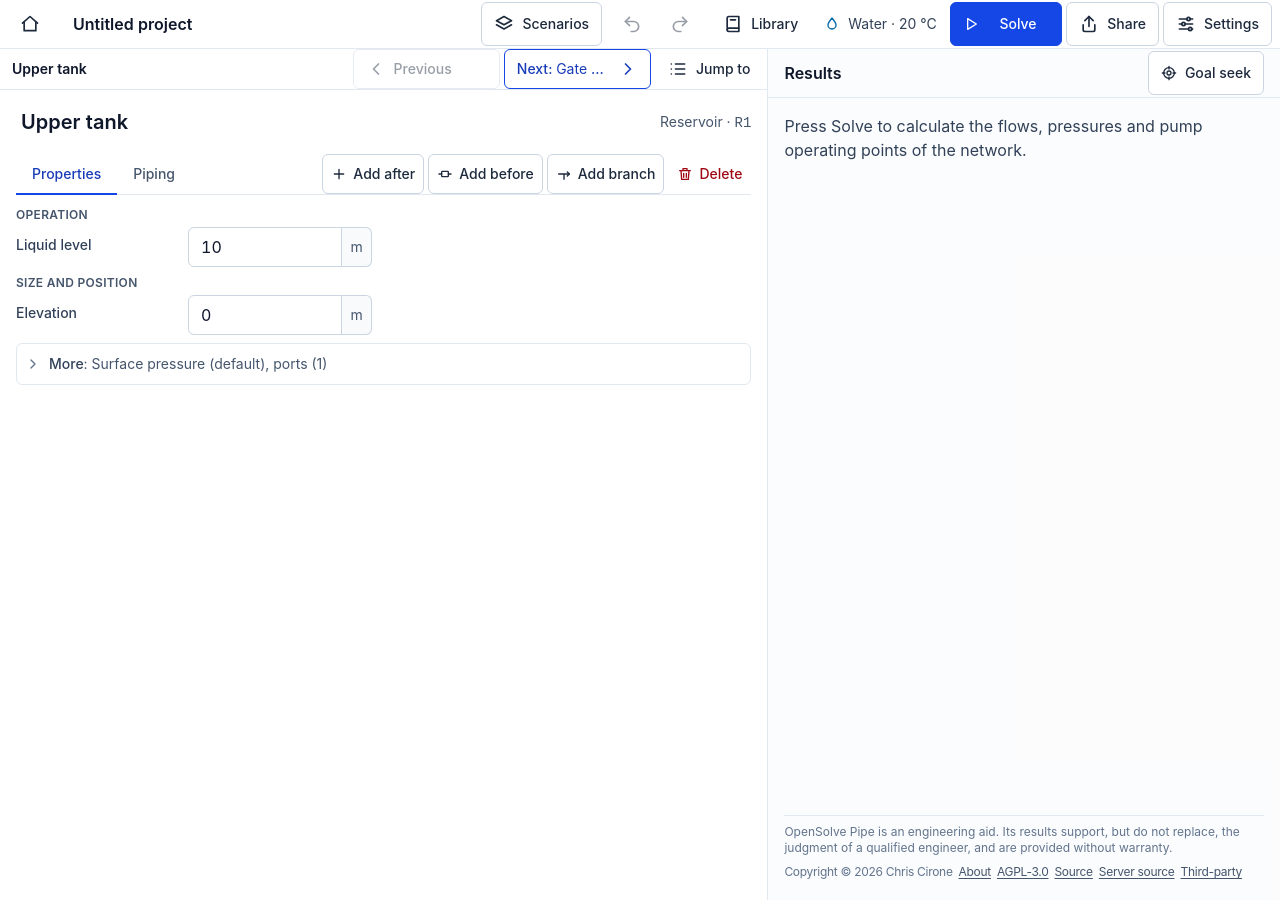
Test case: ProjectLibrary › an edit to an entry reaches every element that refers to it
The image size is (1280, 900).
Click the button with aria-label "Project library" at [761, 24], box [710,2,811,46]
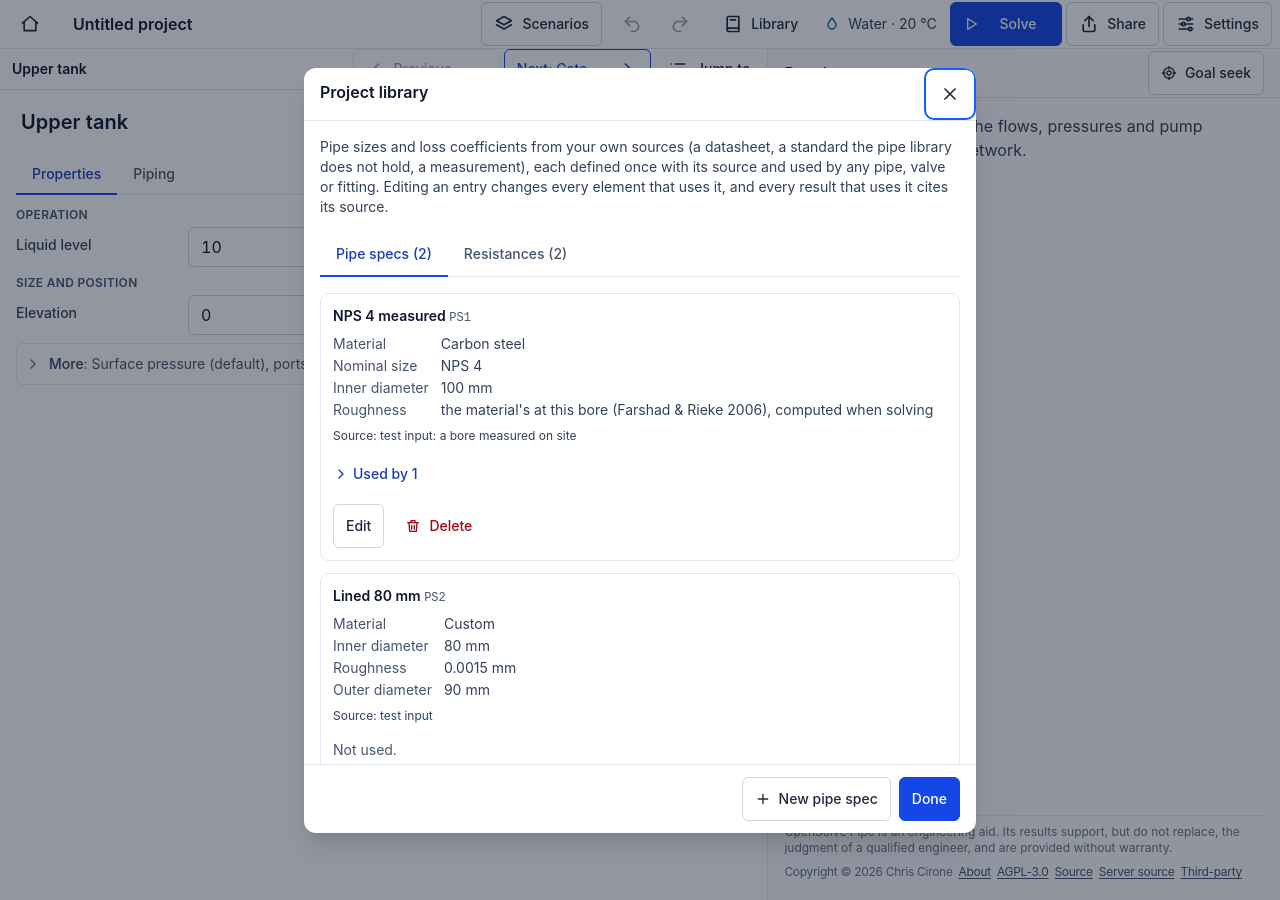
Click the tab "Resistances (2)" at [516, 254], box [448,232,583,276]
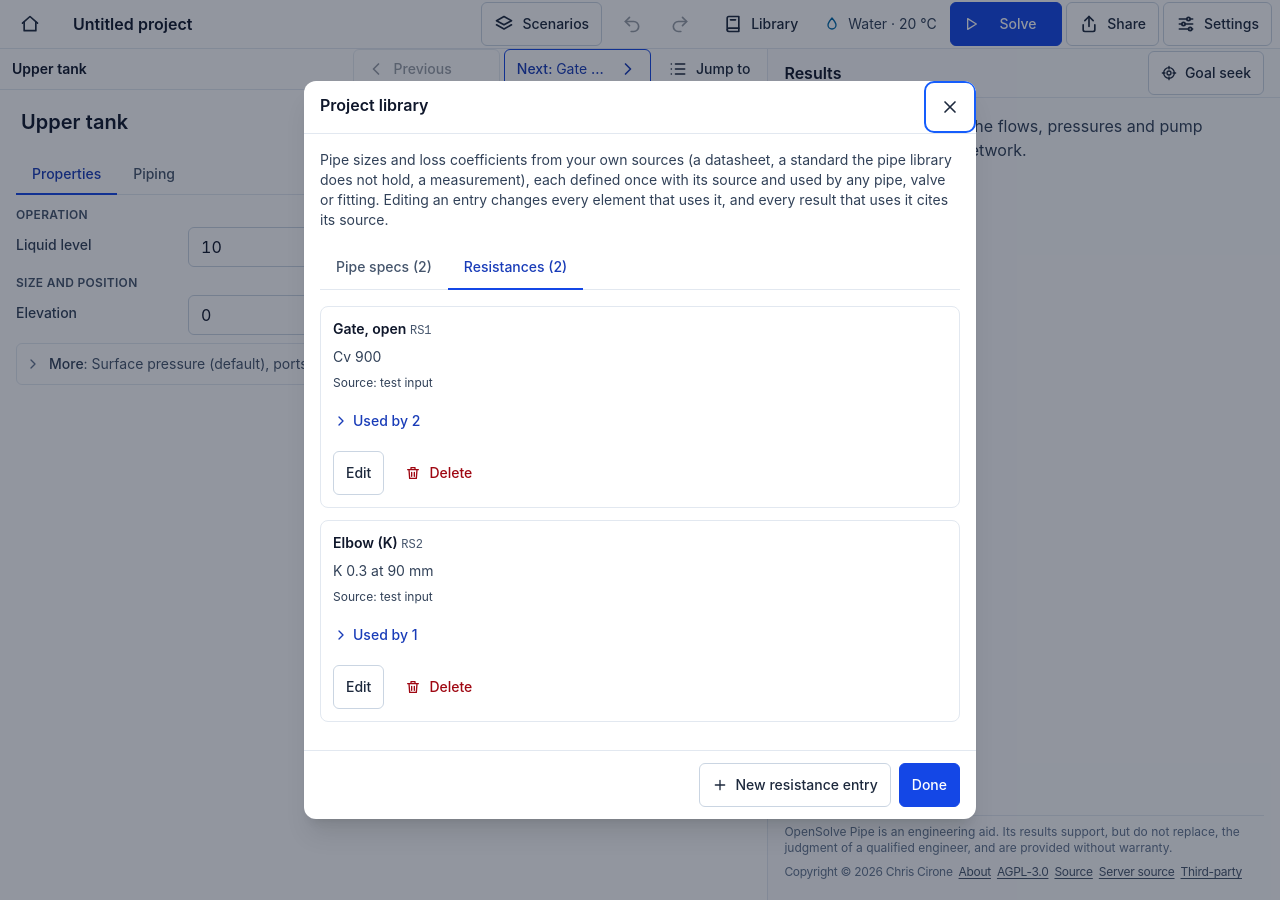
Check: the text "Cv 900" is shown, box [333,348,381,365]
Check: the heading "Used by 2" is shown, box [333,412,420,429]
Click the button with aria-label "Edit Gate, open" at [359, 473], box [333,451,384,495]
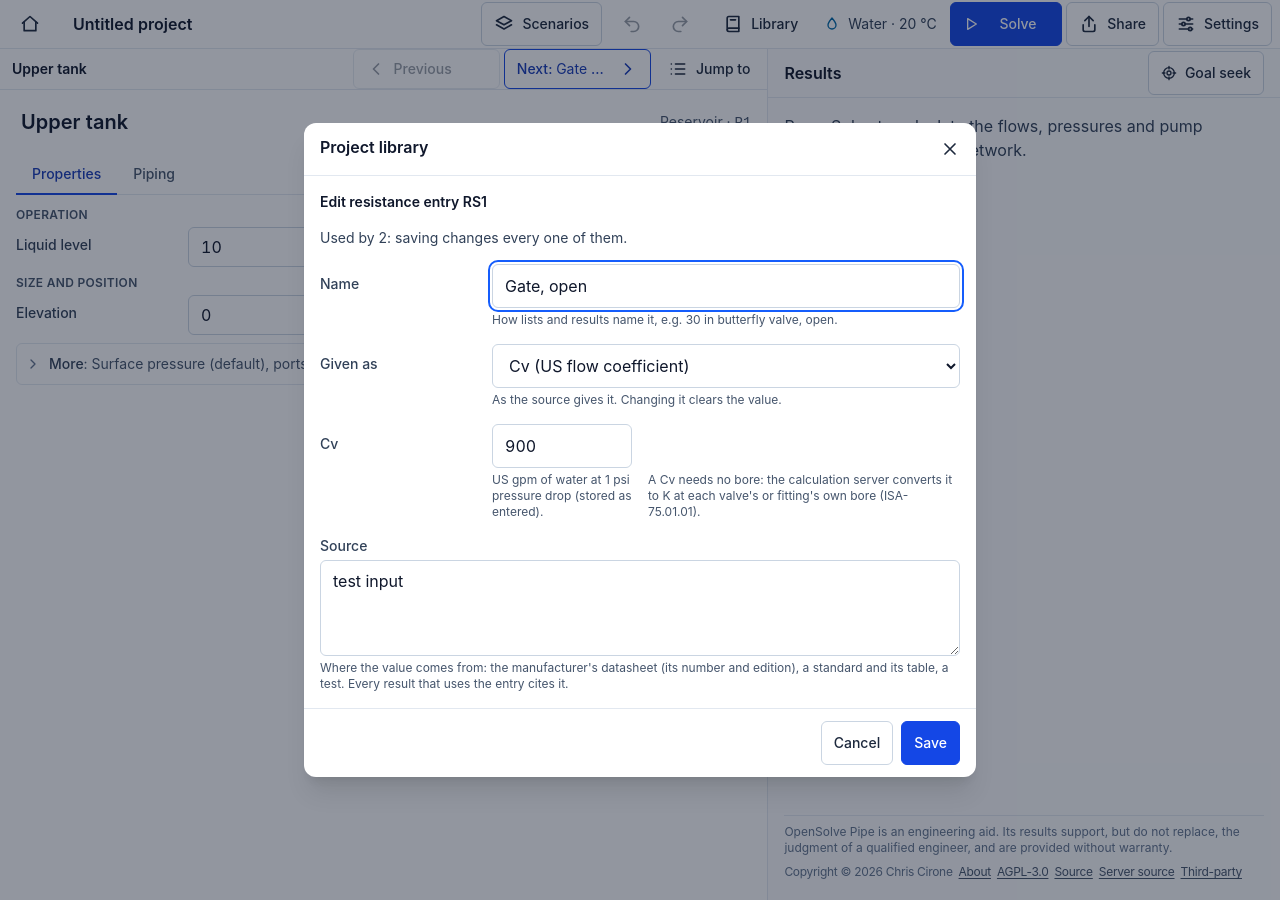
Check: the text "Used by 2: saving changes every one of them." is shown, box [320,229,627,246]
Replace the text in the field labelled "Cv" with "1200" at [562, 446], box [492,424,632,468]
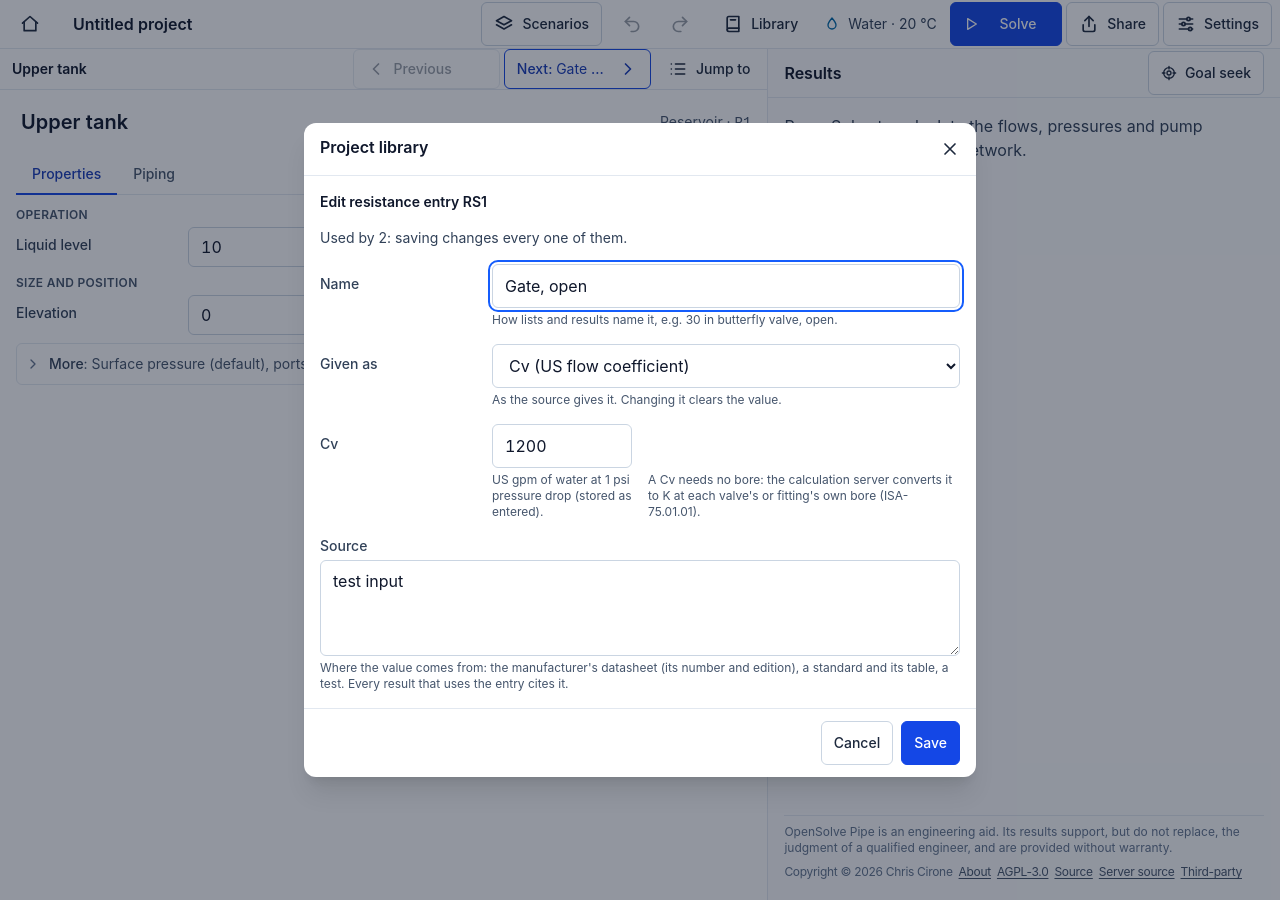
Click the button "Save" at [931, 743], box [901,721,960,765]
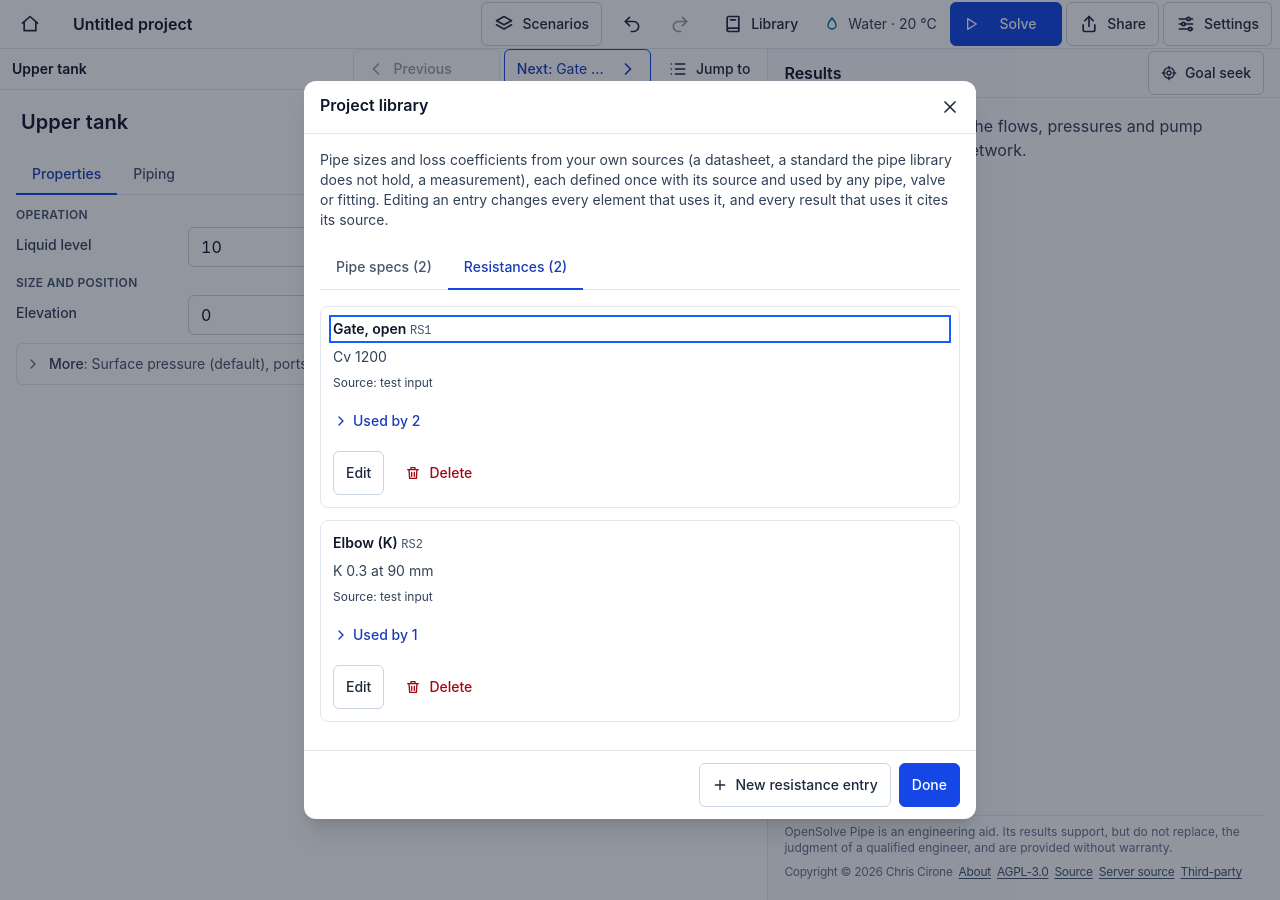
Check: the text "RS1" is shown, box [410,324,432,338]
Check: the button with aria-label "Edit Gate, open" is shown, box [333,451,384,495]
